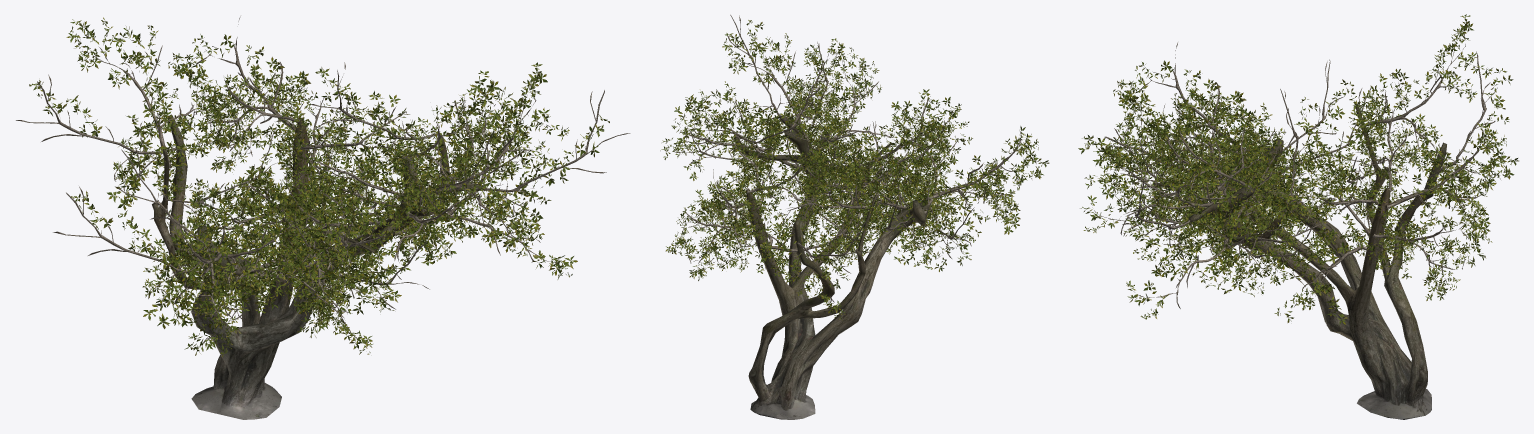
File: village-pbr-island_tree_02.glb
3 renders of one model, left to right at view 1: azimuth 30°, elevation 25°; view 2: azimuth 150°, elevation 25°; view 3: azimuth 270°, elevation 25°, orthographic. The views are drawn at different scales.
Parts seen in each view (by area): view 1: island_tree_02_LOD0; view 2: island_tree_02_LOD0; view 3: island_tree_02_LOD0.
Part boxes in pixels (x1=…): island_tree_02_LOD0: x1=16, y1=16, x2=630, y2=419; island_tree_02_LOD0: x1=660, y1=14, x2=1049, y2=419; island_tree_02_LOD0: x1=1078, y1=14, x2=1518, y2=419.
Size of the model in its own units: 4.21 by 3.41 by 4.07.
Materials: 3 (3 with a texture image).
